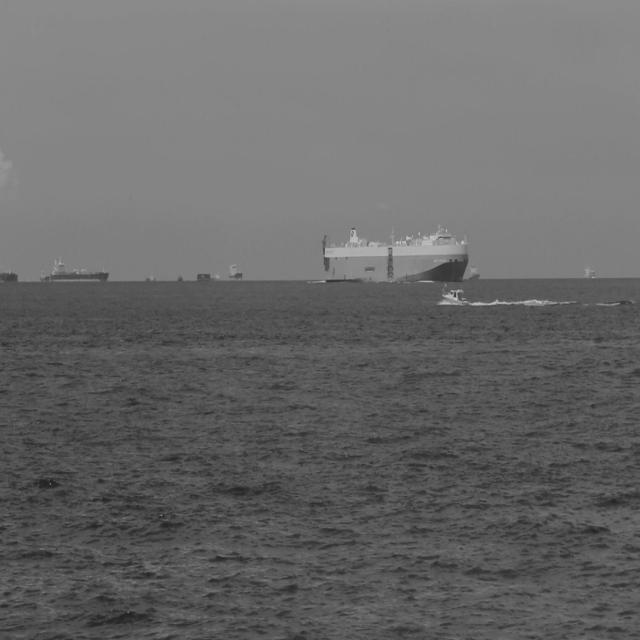ship: (320, 222, 469, 284), (50, 252, 110, 284), (442, 284, 471, 309), (0, 265, 20, 283), (227, 260, 243, 282), (466, 260, 482, 282), (38, 266, 50, 284), (196, 270, 212, 282), (175, 273, 184, 282)
